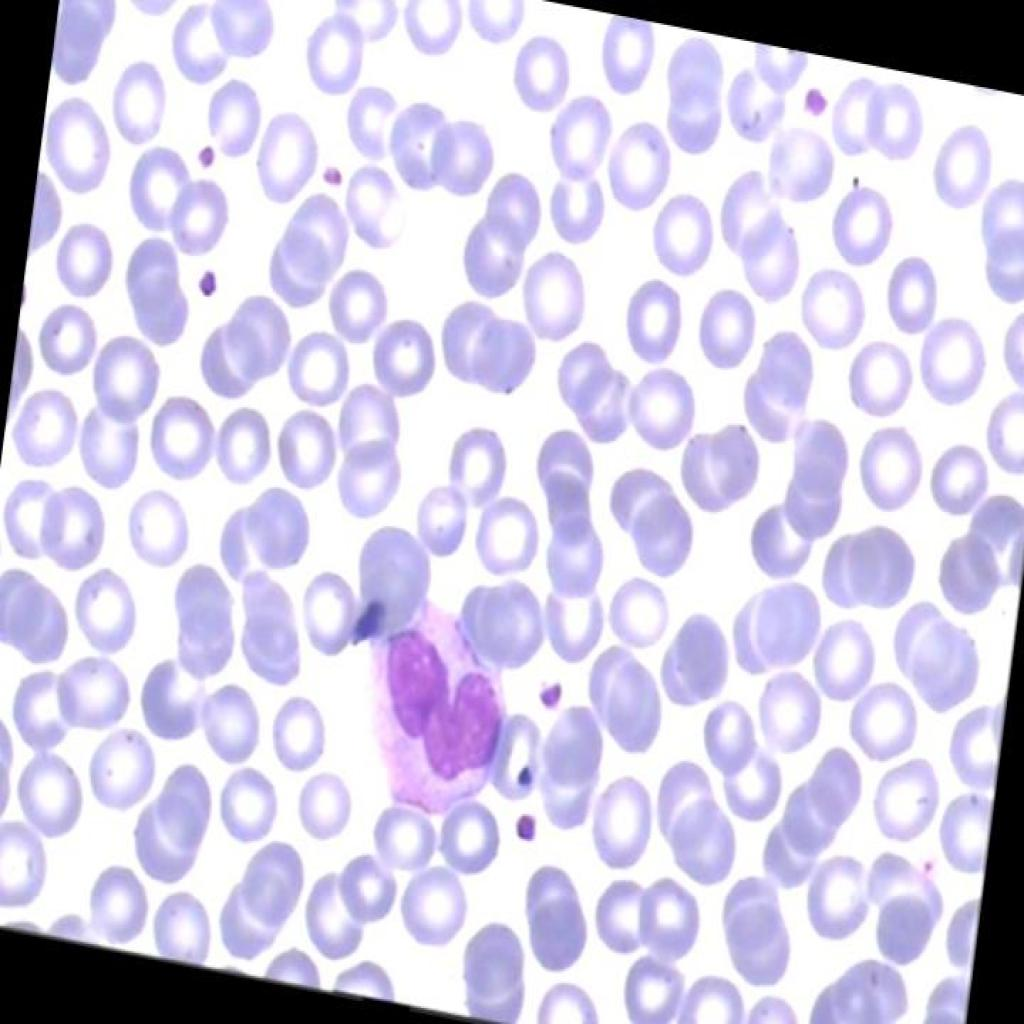Monosit: (341, 583, 519, 830)
Platelet: (529, 660, 573, 714), (184, 258, 228, 311), (185, 126, 222, 182), (313, 140, 350, 192), (798, 66, 830, 119), (509, 804, 545, 848), (504, 745, 536, 787), (839, 160, 866, 190)
